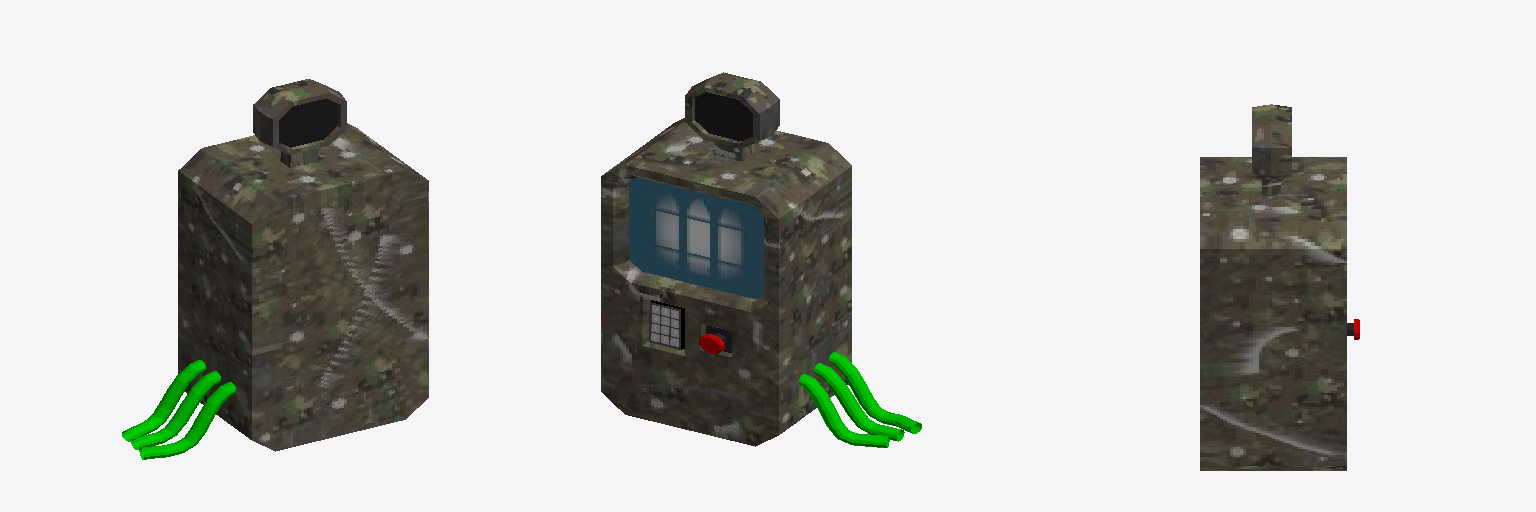
The picture shows the model from 3 angles: view 1: azimuth 30°, elevation 25°; view 2: azimuth 150°, elevation 25°; view 3: azimuth 270°, elevation 25°; orthographic projection.
Parts seen in each view (by area): view 1: Machine_Cube.002; view 2: Machine_Cube.002; view 3: Machine_Cube.002.
Part boxes in pixels (left/top/right/bottom): Machine_Cube.002: left=122, top=79, right=428, bottom=459; Machine_Cube.002: left=601, top=72, right=921, bottom=447; Machine_Cube.002: left=1200, top=104, right=1359, bottom=470.
Size of the model in its own units: 5.03 by 5.81 by 2.62.
Materials: 7 (5 with a texture image).